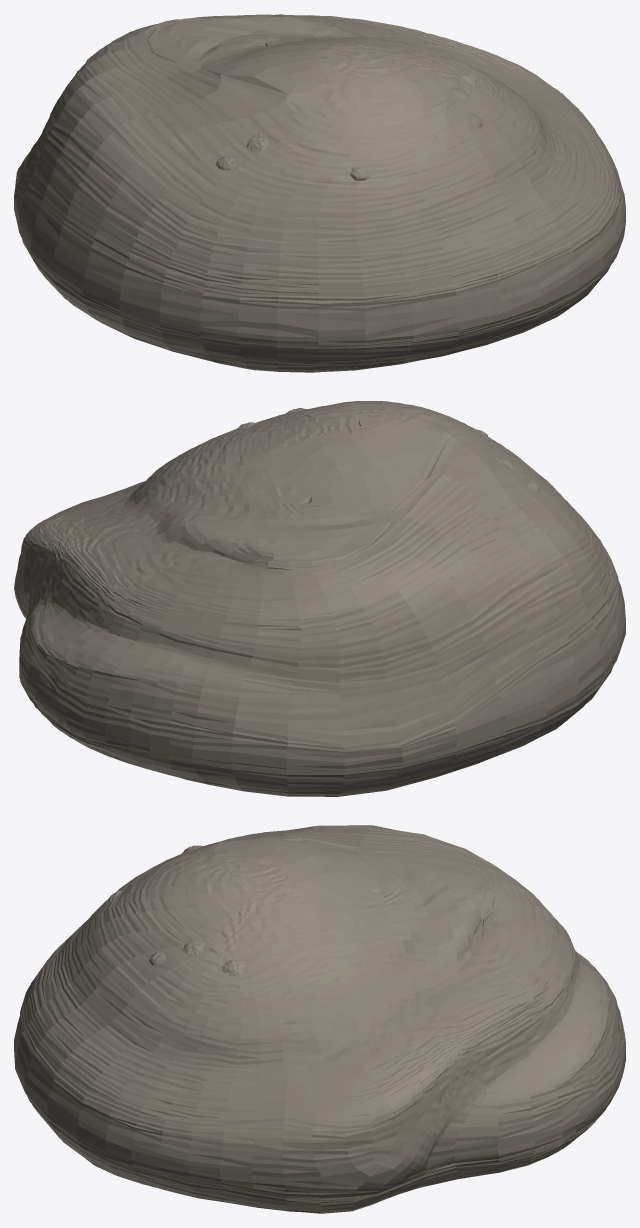
File: tripo_convert_c6a8e7ab-0dc0-441e-8577-b467e3186e65.fbx
3 views of the same model, one above another, from view 1: azimuth 30°, elevation 25°; view 2: azimuth 150°, elevation 25°; view 3: azimuth 270°, elevation 25° (orthographic). The views are drawn at different scales.
Visible parts, largest first — view 1: tripo_node_c6a8e7ab; view 2: tripo_node_c6a8e7ab; view 3: tripo_node_c6a8e7ab.
Boxes of the visible parts, x1,y1,x2,y2 form: tripo_node_c6a8e7ab: (14,14,625,372); tripo_node_c6a8e7ab: (14,401,625,796); tripo_node_c6a8e7ab: (14,825,625,1213).
Bounding box in the file's own units: 0.9844 × 0.4169 × 1.
Materials: 1 (1 with a texture image).
